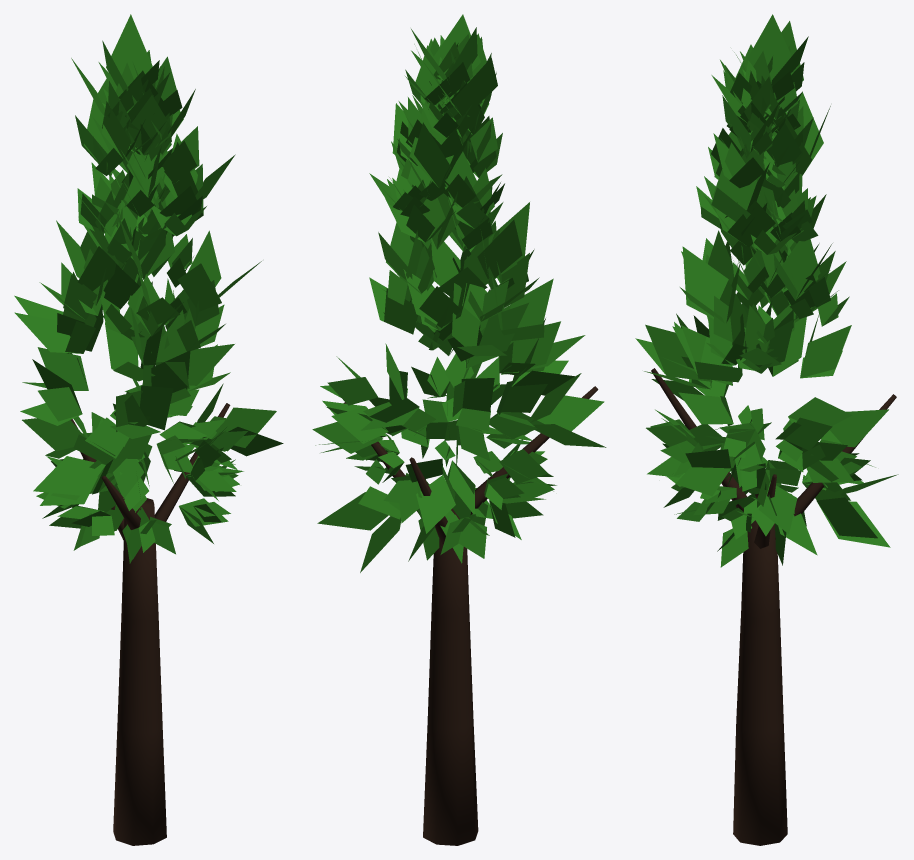
The model's file is Tree_05_B_LOD1.obj.
The picture shows the model from 3 angles, left to right: view 1: azimuth 30°, elevation 25°; view 2: azimuth 150°, elevation 25°; view 3: azimuth 270°, elevation 25°; orthographic projection. The views are drawn at different scales.
Parts seen in each view (by area): view 1: Leaves, Trunk; view 2: Leaves, Trunk; view 3: Leaves, Trunk.
Part boxes in pixels (<box>): Leaves: <box>14,14,283,563</box>; Trunk: <box>71,403,230,845</box>; Leaves: <box>312,14,606,572</box>; Trunk: <box>344,386,598,845</box>; Leaves: <box>635,14,898,567</box>; Trunk: <box>651,368,896,845</box>.
Size of the model in its own units: 2.31 by 7.23 by 2.15.
